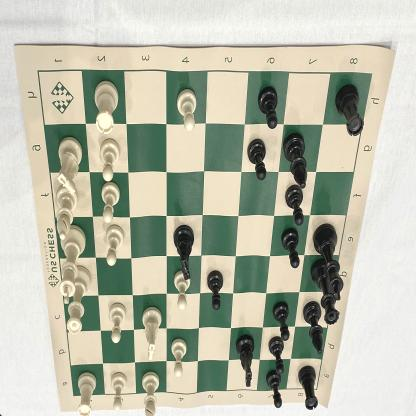black-bishop: (284, 131, 306, 189), (302, 300, 323, 356)
black-king: (314, 224, 342, 301)
black-knight: (172, 225, 195, 279), (236, 334, 256, 389)
black-pawn: (257, 85, 279, 132), (246, 137, 266, 182), (280, 228, 300, 270), (285, 184, 305, 225), (206, 269, 223, 312), (272, 301, 289, 343), (265, 371, 282, 411), (268, 338, 285, 372)
black-queen: (312, 261, 340, 325)
white-bishop: (54, 184, 79, 241), (140, 371, 161, 416)
white-king: (56, 224, 87, 306)
white-knight: (55, 137, 85, 195), (140, 306, 163, 362)
white-pawn: (98, 139, 121, 182), (176, 88, 198, 132), (105, 224, 124, 267), (100, 184, 120, 224), (109, 370, 128, 412), (108, 303, 126, 345), (173, 270, 191, 311), (170, 338, 187, 376)
white-queen: (62, 266, 92, 335)
white-rook: (334, 82, 364, 140), (92, 80, 119, 135), (298, 363, 318, 412), (75, 372, 97, 416)
